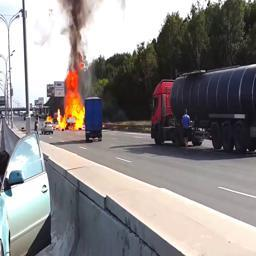fire: (60, 69, 84, 130)
